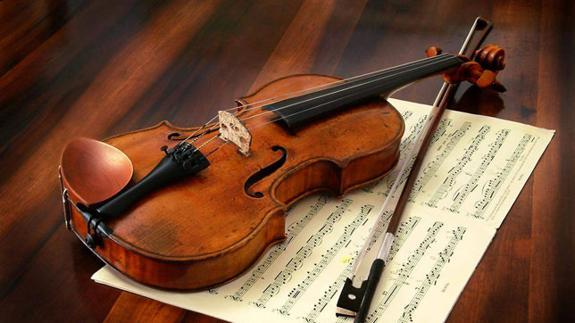violin: (53, 9, 508, 290)
